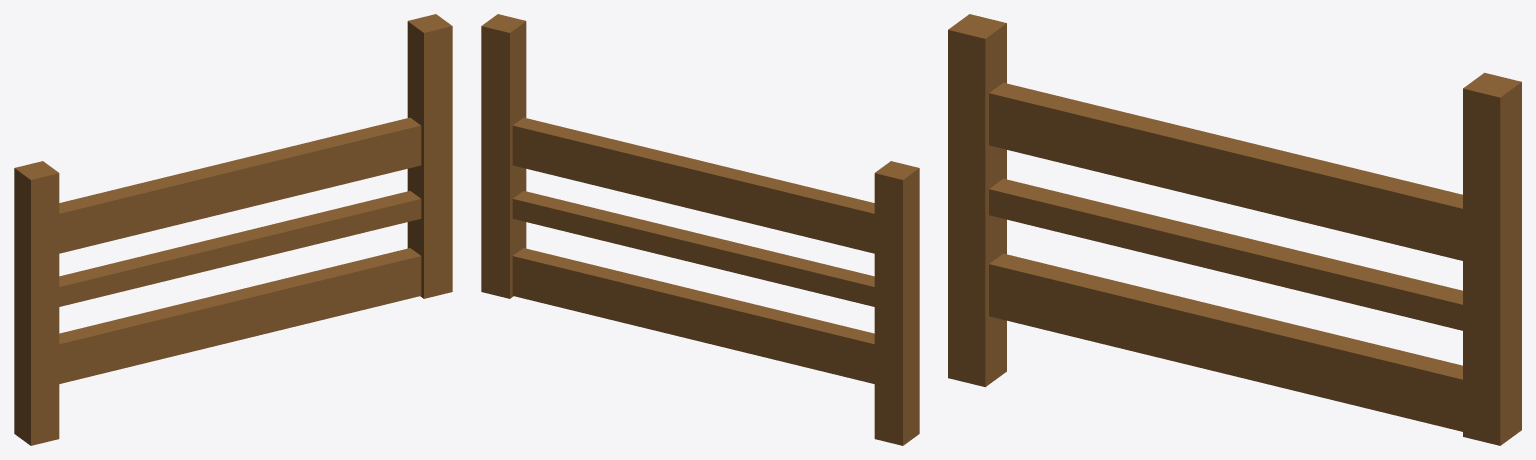
File: VallaPuetaA.fbx
3 views of the same model, side by side, from view 1: azimuth 30°, elevation 25°; view 2: azimuth 150°, elevation 25°; view 3: azimuth 330°, elevation 25° (orthographic). The views are drawn at different scales.
Parts seen in each view (by area): view 1: VallaPuertaA; view 2: VallaPuertaA; view 3: VallaPuertaA.
Boxes of the visible parts, x1,y1,x2,y2 form: VallaPuertaA: (14,14,452,445); VallaPuertaA: (481,14,919,445); VallaPuertaA: (948,14,1521,445).
Bounding box in the file's own units: 166 × 119 × 11.25.
